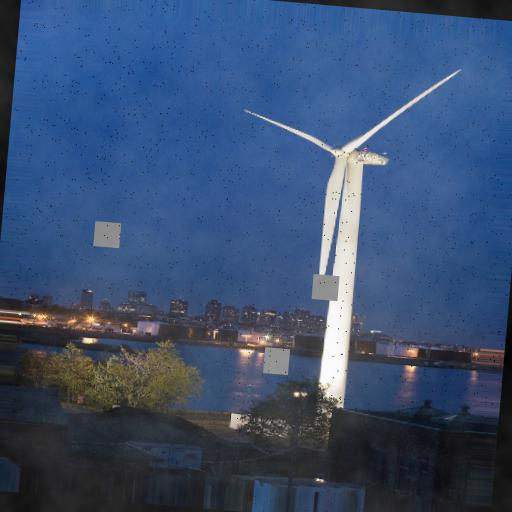wind turbine: (241, 68, 461, 408)
